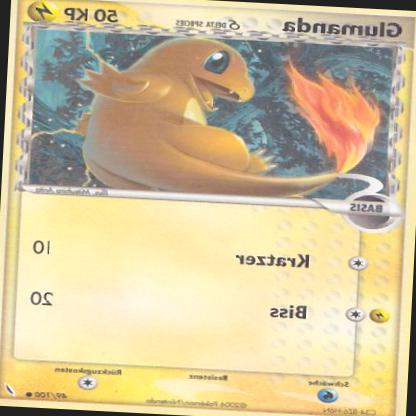Charmander: (69, 32, 368, 202)
